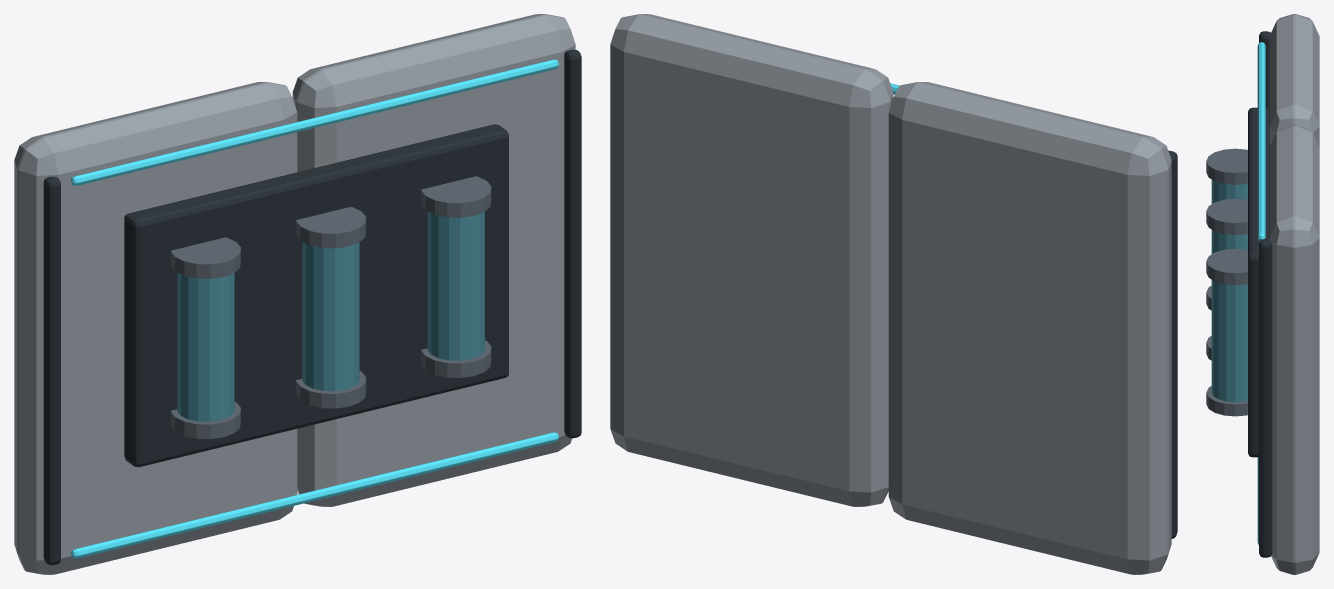
Rendered from 3_WallB.fbx.
3 renders of one model, left to right at view 1: azimuth 30°, elevation 25°; view 2: azimuth 150°, elevation 25°; view 3: azimuth 270°, elevation 25°, orthographic. The views are drawn at different scales.
Parts seen in each view (by area): view 1: Body; view 2: Body; view 3: Body.
Part boxes in pixels (x1,y1,x2,y2): Body: [14, 14, 581, 574]; Body: [610, 14, 1177, 574]; Body: [1206, 14, 1319, 574].
Size of the model in its own units: 3.98 by 3 by 0.86.
